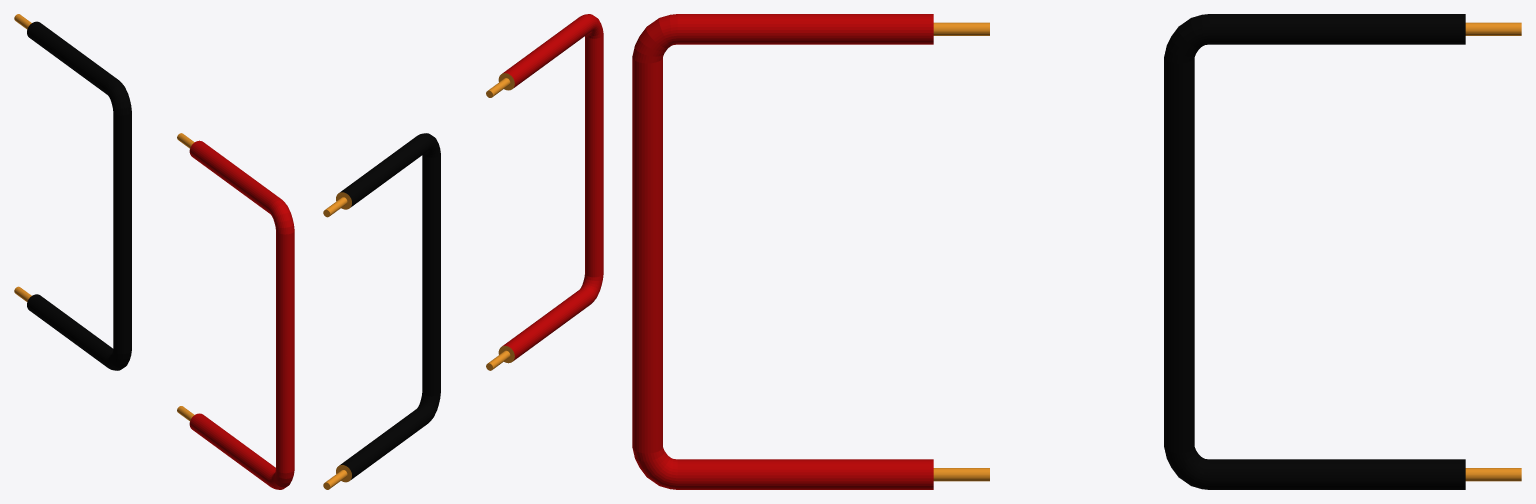
File: cabo-L.fbx
The picture shows the model from 3 angles, left to right: view 1: azimuth 30°, elevation 25°; view 2: azimuth 150°, elevation 25°; view 3: azimuth 270°, elevation 25°; orthographic projection. The views are drawn at different scales.
Parts seen in each view (by area): view 1: Cylinder.002, Cylinder.001; view 2: Cylinder.002, Cylinder.001; view 3: Cylinder.001, Cylinder.002.
Boxes of the visible parts, x1,y1,x2,y2 form: Cylinder.002: [177, 133, 294, 489]; Cylinder.001: [14, 14, 131, 370]; Cylinder.002: [486, 14, 603, 370]; Cylinder.001: [323, 133, 440, 489]; Cylinder.001: [1164, 14, 1521, 489]; Cylinder.002: [632, 14, 989, 489].
Size of the model in its own units: 1.39 by 23.79 by 40.53.
